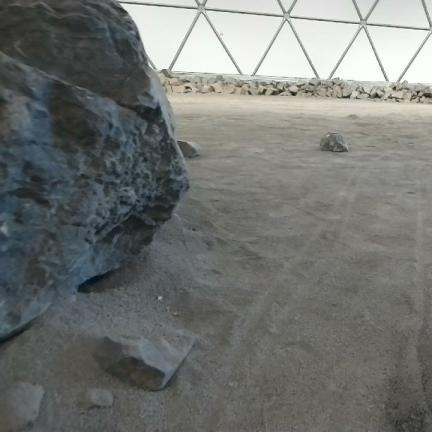Rock: (0, 0, 188, 337), (93, 326, 194, 391), (320, 132, 349, 152), (177, 140, 201, 158), (264, 86, 278, 95), (382, 88, 392, 100), (157, 73, 167, 85), (224, 84, 236, 94), (224, 77, 238, 85), (333, 86, 342, 98), (276, 82, 288, 91), (168, 78, 181, 86), (172, 85, 185, 93), (342, 87, 352, 97), (414, 85, 428, 92), (362, 85, 372, 94), (356, 84, 365, 94), (212, 83, 222, 92), (392, 91, 403, 99), (161, 69, 172, 77), (309, 78, 319, 86), (288, 86, 298, 94), (296, 80, 307, 87), (190, 76, 201, 83), (402, 81, 411, 89), (258, 85, 266, 94), (358, 93, 368, 100), (165, 82, 172, 92), (248, 82, 259, 88), (351, 90, 359, 98), (394, 83, 402, 91), (404, 93, 412, 101), (341, 81, 350, 88), (369, 88, 376, 97), (234, 79, 243, 86), (208, 78, 217, 85), (333, 78, 341, 85), (351, 83, 358, 91), (326, 88, 333, 96), (376, 89, 383, 97), (424, 89, 431, 97), (201, 86, 210, 92), (201, 78, 208, 85), (269, 81, 278, 86), (216, 75, 223, 81), (411, 98, 419, 103), (417, 92, 423, 97)
